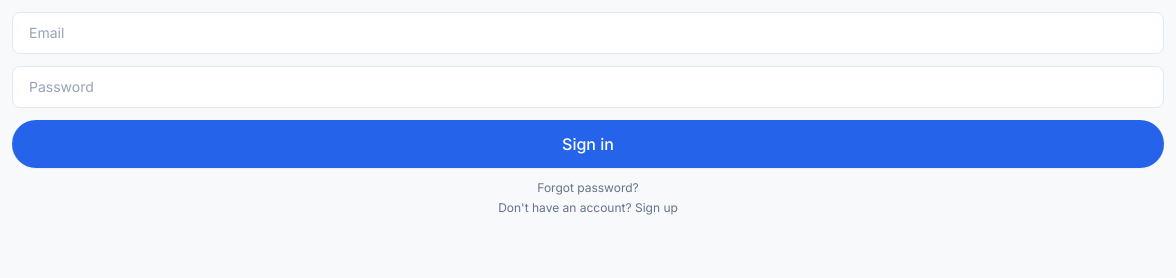
Test: EmailPasswordForm › shows a translated message for known Firebase error codes
The width and height of the screenshot is (1176, 278).
Step 1. Type "jane@example.com" into the field with placeholder "Email" → (588, 33), box [12, 12, 1164, 54]
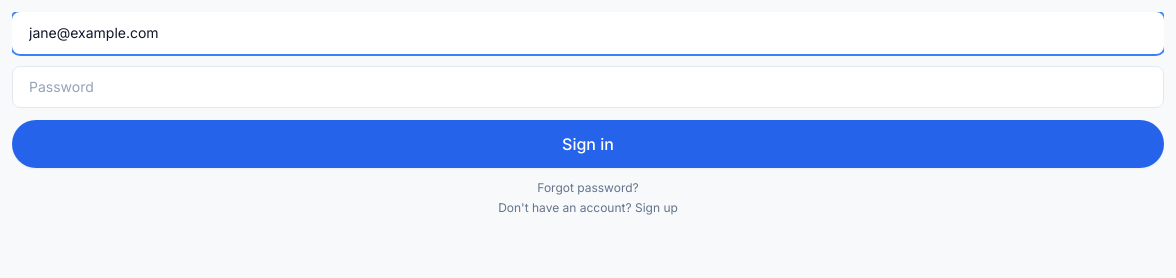
Step 2. Type "wrong-pass" into the password field with placeholder "Password" → (588, 87), box [12, 66, 1164, 108]
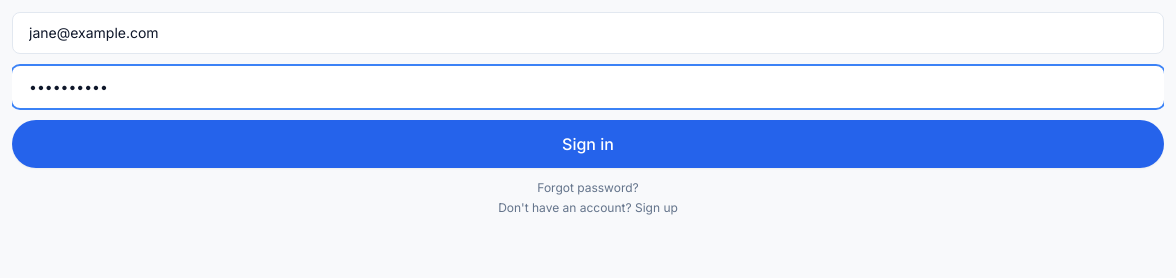
Step 3. Click the button "Sign in" → (588, 144), box [12, 120, 1164, 168]
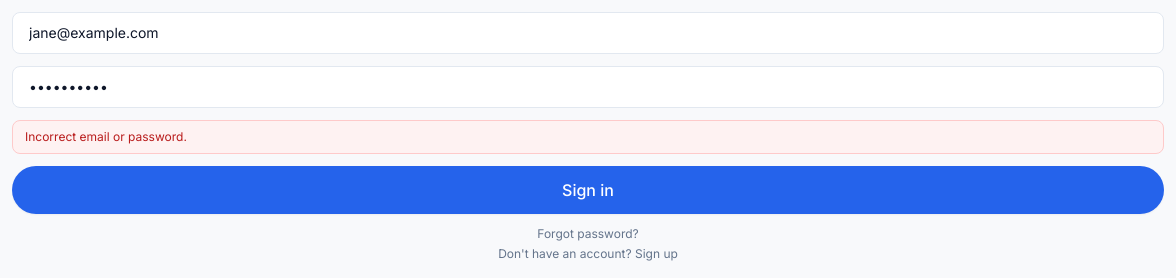
Expected: the button "Sign in" is enabled, [12, 166, 1164, 214]
Expected: the text "Incorrect email or password." is shown, [12, 120, 1164, 154]
